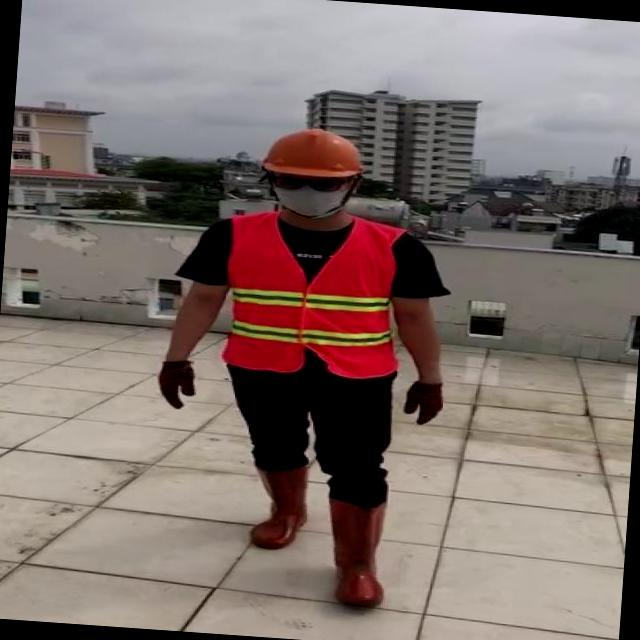boots: (322, 496, 391, 609), (242, 462, 312, 550)
gloves: (396, 370, 448, 430), (158, 348, 203, 415)
helmet: (258, 120, 374, 182)
vest: (224, 212, 405, 381)
